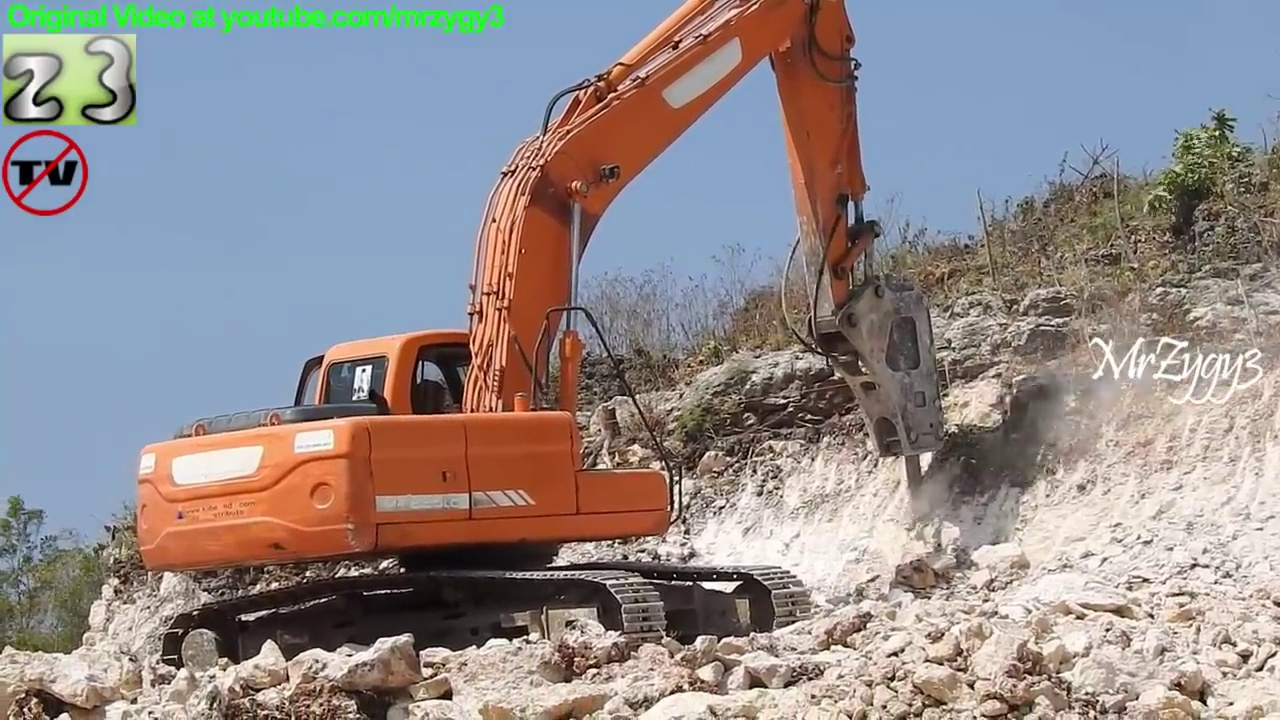excavator breaker: (129, 1, 958, 685)
